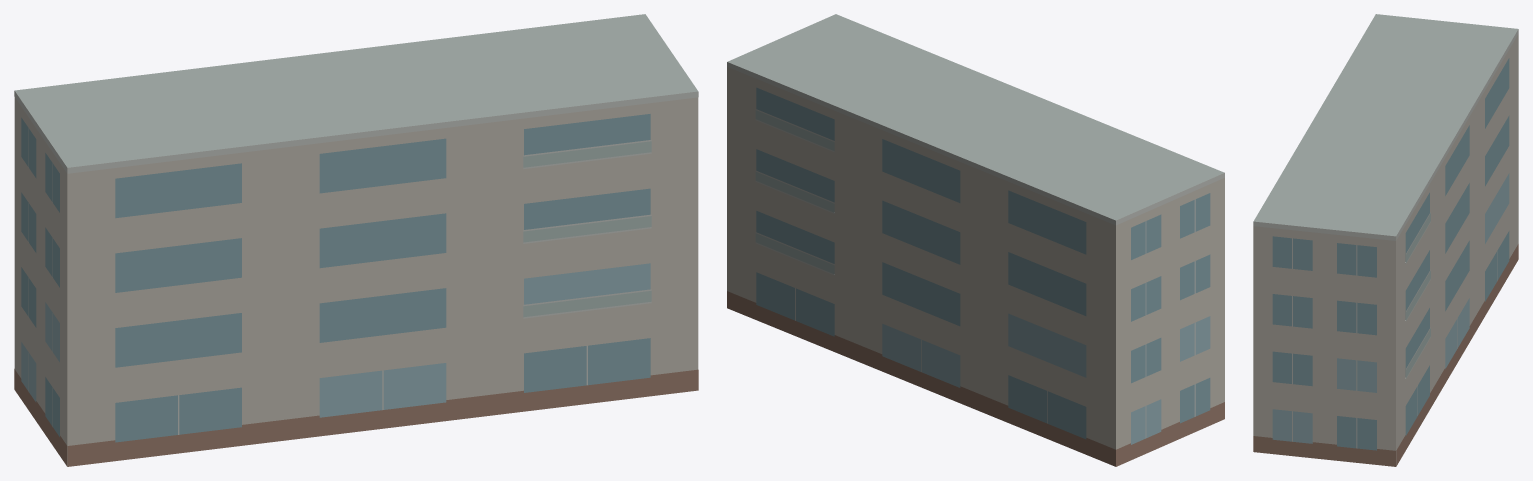
Rendered from survey-upis-32805259.glb.
3 views of the same model, side by side, from view 1: azimuth 30°, elevation 25°; view 2: azimuth 150°, elevation 25°; view 3: azimuth 270°, elevation 25° (orthographic). The views are drawn at different scales.
Parts seen in each view (by area): view 1: survey-upis-32805259.tmp; view 2: survey-upis-32805259.tmp; view 3: survey-upis-32805259.tmp.
Boxes of the visible parts, x1,y1,x2,y2 form: survey-upis-32805259.tmp: (14,14,698,466); survey-upis-32805259.tmp: (727,14,1224,466); survey-upis-32805259.tmp: (1253,14,1518,466).
Size of the model in its own units: 25.46 by 12.3 by 12.84.
